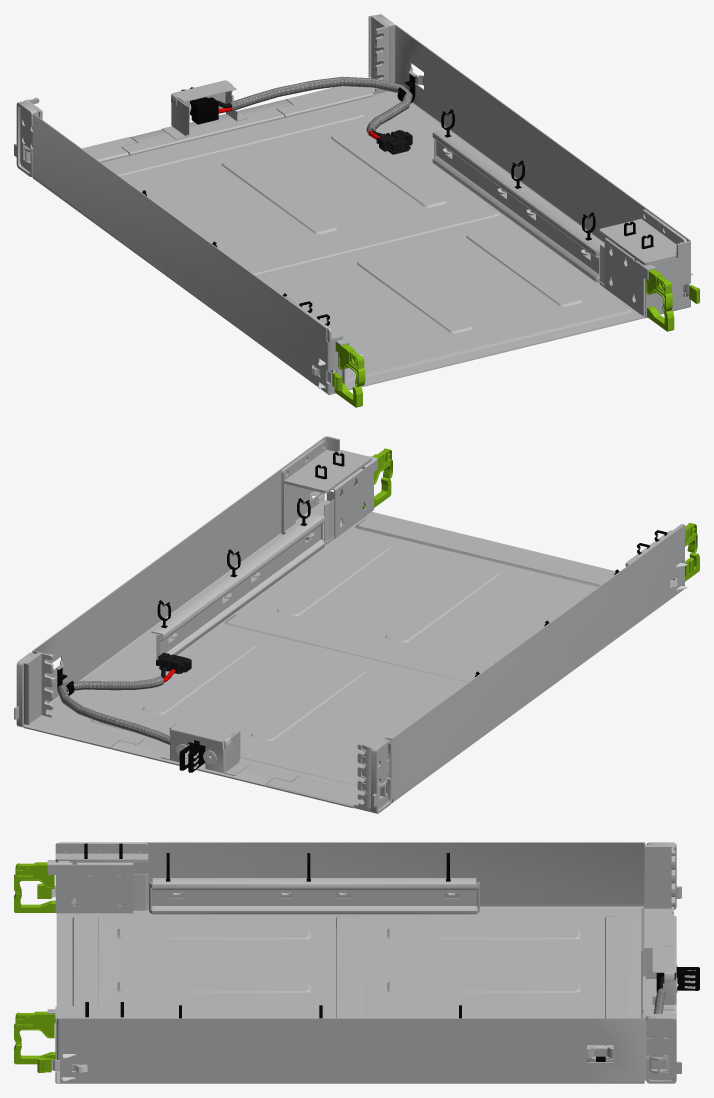
Rendered from rack-adapter.glb.
3 renders of one model, top to bottom at view 1: azimuth 30°, elevation 25°; view 2: azimuth 150°, elevation 25°; view 3: azimuth 270°, elevation 25°, orthographic.
Visible parts, largest first — view 1: OCP_WDG 400C Tray_Merged; view 2: OCP_WDG 400C Tray_Merged; view 3: OCP_WDG 400C Tray_Merged.
Part boxes in pixels (x1,y1,x2,y2): OCP_WDG 400C Tray_Merged: [14, 14, 699, 407]; OCP_WDG 400C Tray_Merged: [14, 436, 699, 813]; OCP_WDG 400C Tray_Merged: [14, 842, 699, 1083].
Size of the model in its own units: 0.5518 by 0.0947 by 0.8815.
Materials: 7 (1 with a texture image).
